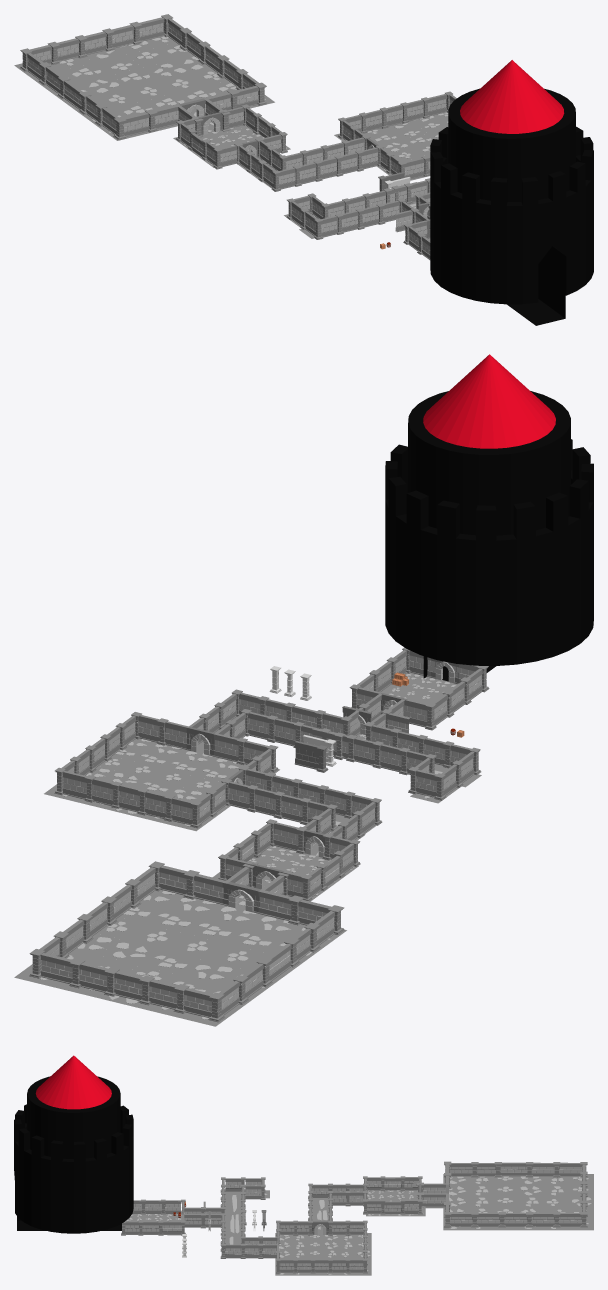
File: Castle.fbx
The picture shows the model from 3 angles, top to bottom: view 1: azimuth 30°, elevation 25°; view 2: azimuth 150°, elevation 25°; view 3: azimuth 270°, elevation 25°; orthographic projection. The views are drawn at different scales.
Visible parts, largest first — view 1: Cylinder, Cube.115, Cube.108, Cube.117, Cube.105, Cube.107, Cube.106, Cube.114, Plane.115, Plane.137, Plane.117, Plane.120 (+29 smaller); view 2: Cylinder, Cube.117, Cube.108, Cube.116, Cube.104, Cube.106, Cube.105, Cube.107, Plane.118, Plane.140, Plane.117, Plane.121 (+6 smaller); view 3: Cylinder, Plane.048, Plane.111, Cube.100, Cube.101, Cube.111, Cube.109, Cube.110, Cube.112, Plane.113, Cube.113, Cube.102 (+15 smaller).
Part boxes in pixels (bbox=[...]): Cylinder: bbox=[430, 60, 593, 325]; Cube.115: bbox=[113, 112, 149, 140]; Cube.108: bbox=[129, 17, 164, 44]; Cube.117: bbox=[145, 104, 179, 132]; Cube.105: bbox=[47, 38, 79, 64]; Cube.107: bbox=[102, 25, 134, 51]; Cube.106: bbox=[75, 31, 106, 58]; Cube.114: bbox=[237, 82, 267, 107]; Plane.115: bbox=[126, 47, 174, 67]; Plane.137: bbox=[129, 80, 177, 100]; Plane.117: bbox=[112, 67, 159, 87]; Plane.120: bbox=[63, 62, 111, 82]; Cylinder: bbox=[385, 354, 593, 681]; Cube.117: bbox=[258, 890, 303, 925]; Cube.108: bbox=[40, 953, 84, 988]; Cube.116: bbox=[183, 870, 227, 904]; Cube.104: bbox=[184, 988, 224, 1022]; Cube.106: bbox=[114, 971, 154, 1005]; Cube.105: bbox=[149, 979, 189, 1013]; Cube.107: bbox=[79, 962, 119, 996]; Plane.118: bbox=[98, 939, 159, 964]; Plane.140: bbox=[120, 923, 181, 948]; Plane.117: bbox=[139, 949, 200, 974]; Plane.121: bbox=[179, 959, 240, 984]; Cylinder: bbox=[14, 1055, 133, 1233]; Plane.048: bbox=[224, 1191, 241, 1244]; Plane.111: bbox=[312, 1198, 328, 1233]; Cube.100: bbox=[525, 1162, 554, 1177]; Cube.101: bbox=[553, 1162, 581, 1177]; Cube.111: bbox=[504, 1212, 533, 1227]; Cube.109: bbox=[559, 1212, 587, 1227]; Cube.110: bbox=[531, 1212, 560, 1227]; Cube.112: bbox=[477, 1212, 505, 1227]; Plane.113: bbox=[500, 1162, 527, 1176]; Cube.113: bbox=[450, 1212, 478, 1227]; Cube.102: bbox=[470, 1162, 502, 1177].
Bounding box in the file's own units: 9705 × 7550 × 23254.
